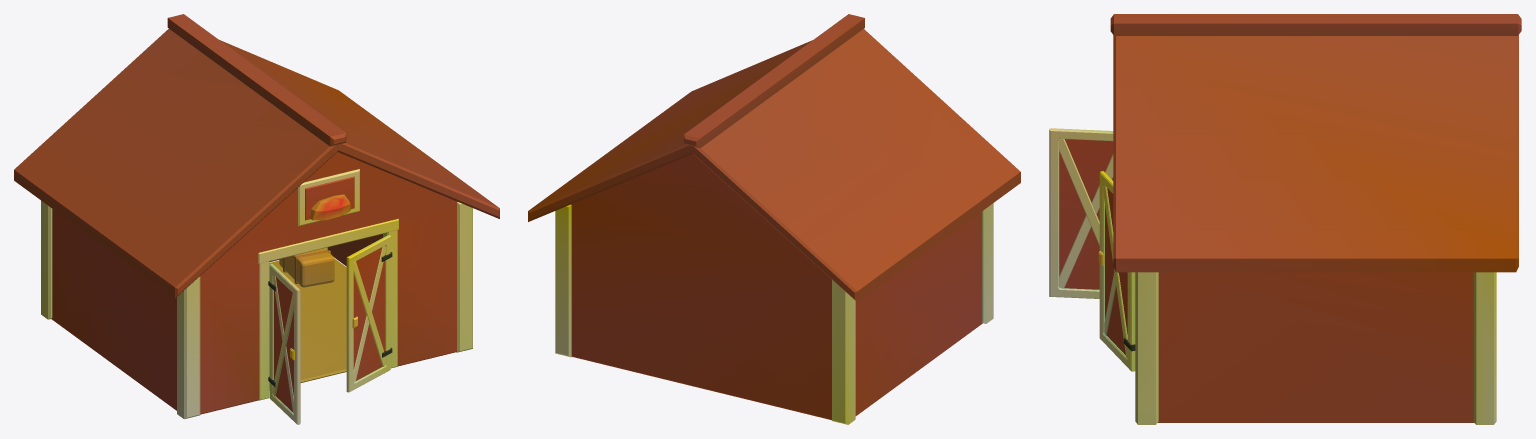
File: Farm_Barn.glb
The picture shows the model from 3 angles, left to right: view 1: azimuth 30°, elevation 25°; view 2: azimuth 150°, elevation 25°; view 3: azimuth 270°, elevation 25°; orthographic projection. The views are drawn at different scales.
Visible parts, largest first — view 1: Farm_Barn, Door_R, Door_L; view 2: Farm_Barn; view 3: Farm_Barn, Door_L, Door_R.
Part boxes in pixels (box(x1,y1,x2,y2)): Farm_Barn: box(14, 14, 499, 419); Door_R: box(346, 235, 392, 392); Door_L: box(268, 263, 300, 424); Farm_Barn: box(528, 14, 1020, 424); Farm_Barn: box(1110, 14, 1521, 424); Door_L: box(1049, 128, 1113, 298); Door_R: box(1098, 171, 1135, 371).
Bounding box in the file's own units: 5.24 × 3.95 × 5.31.
